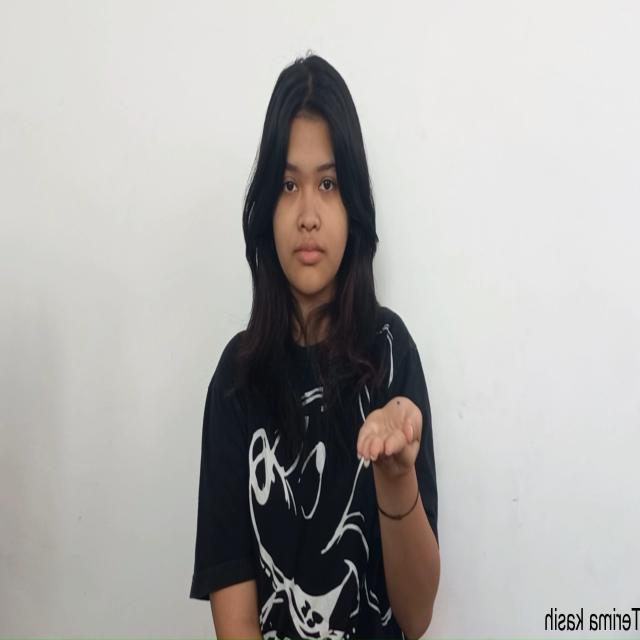Terima kasih -BISINDO-: (355, 392, 423, 482)
